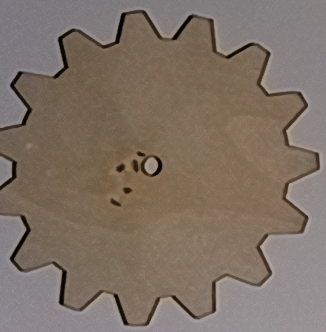Points: (114, 162, 127, 174), (109, 197, 122, 208), (121, 185, 134, 196), (131, 159, 140, 173), (135, 149, 146, 157)
